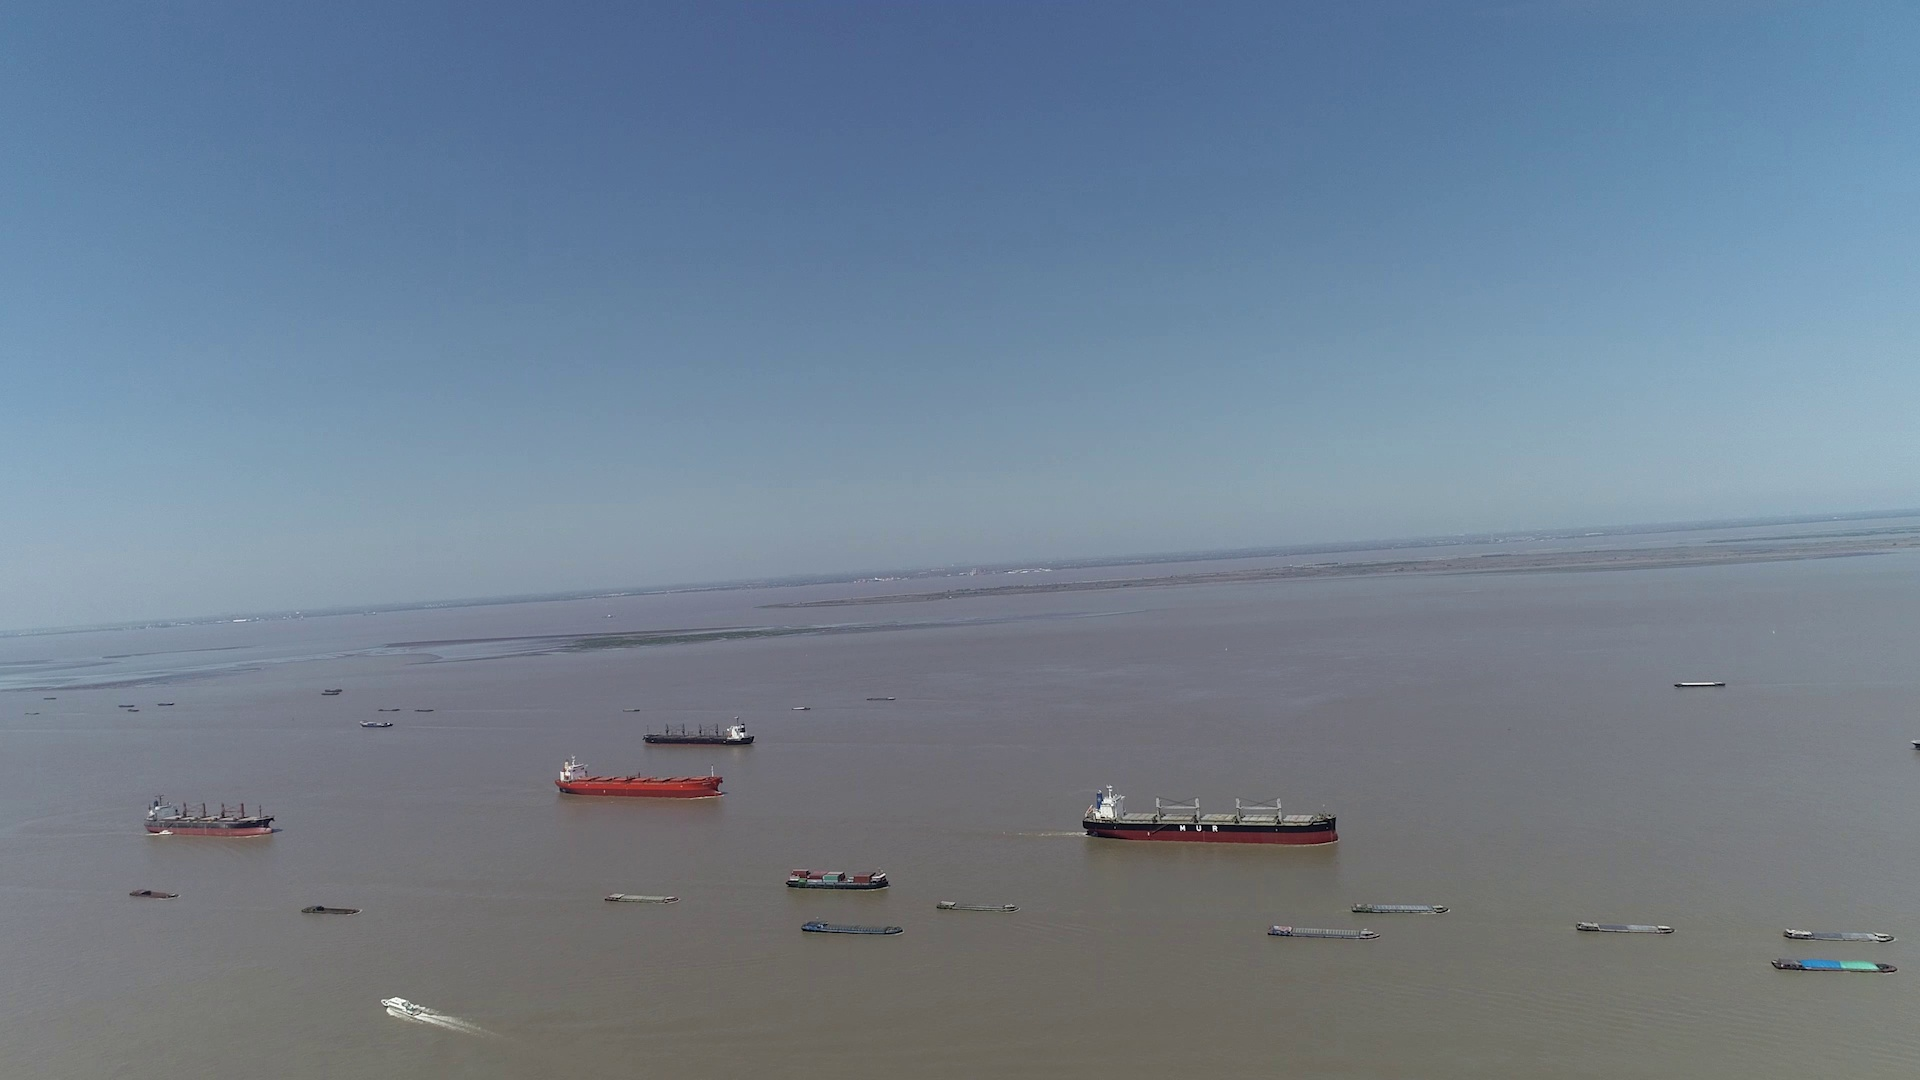ship: (1081, 782, 1337, 847), (556, 756, 727, 798), (144, 794, 276, 836), (1771, 948, 1895, 973), (644, 719, 754, 745), (785, 866, 891, 889), (380, 993, 459, 1021), (1785, 927, 1892, 945), (1265, 924, 1379, 942), (802, 918, 905, 934), (1575, 918, 1676, 934), (1352, 899, 1444, 915), (934, 897, 1018, 913), (605, 891, 675, 905), (301, 905, 361, 916), (129, 887, 177, 899), (1673, 679, 1725, 687), (363, 719, 393, 727), (316, 688, 342, 696)
